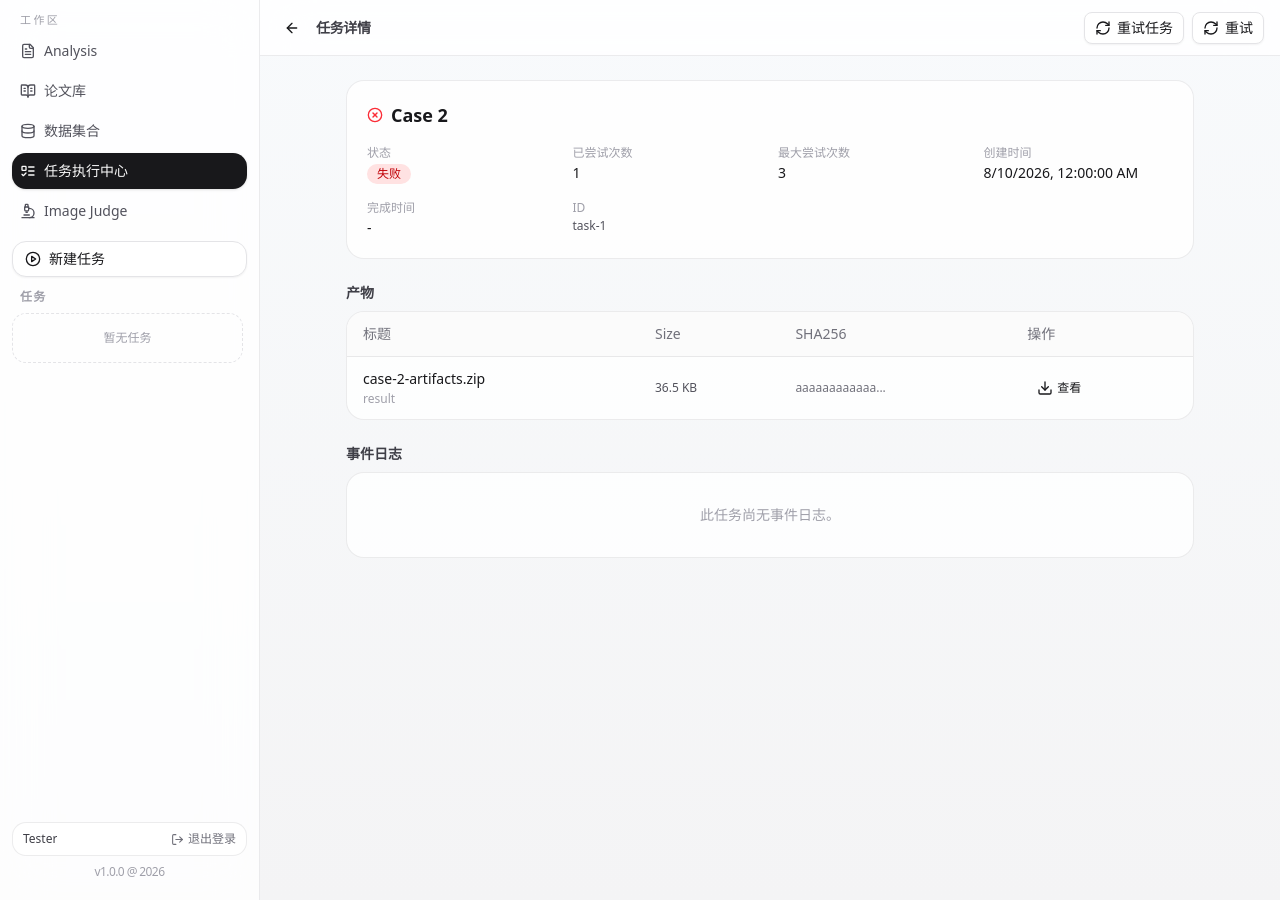
it: Task detail downloads › shows a recoverable message when the retry POST times out
This screenshot has width=1280, height=900.
Click the button "重试任务": (1134, 28) [1084,12,1184,44]
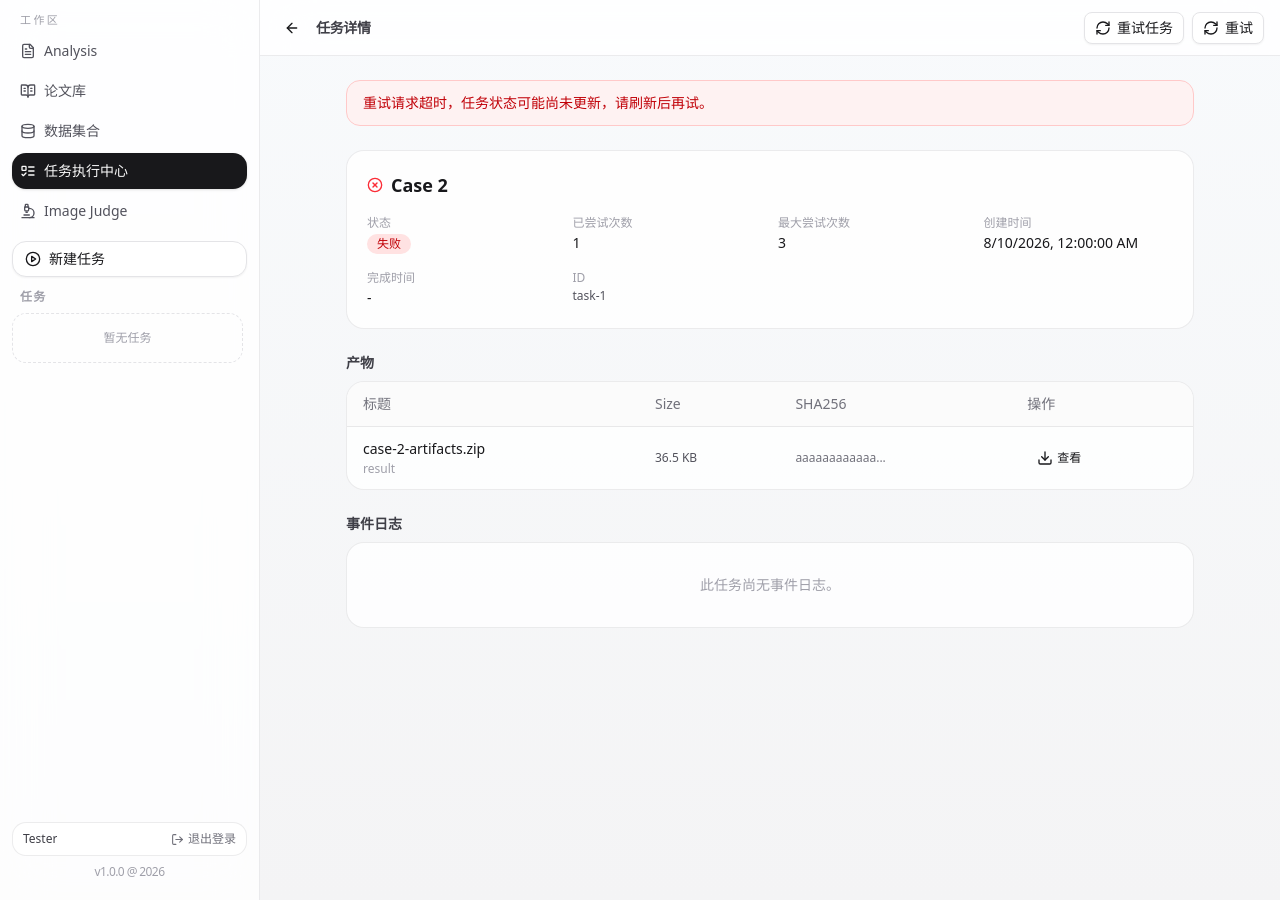
Expected: the message reads "重试请求超时，任务状态可能尚未更新，请刷新后再试。", [363,93,713,112]
